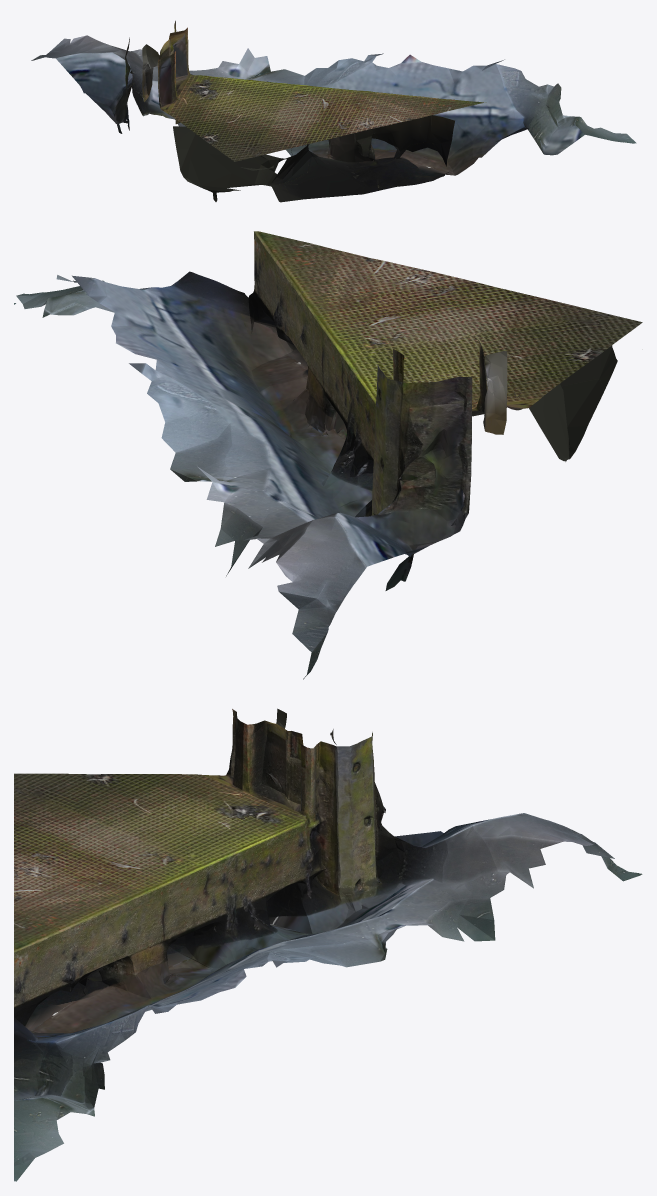
3 renders of one model, top to bottom at view 1: azimuth 30°, elevation 25°; view 2: azimuth 150°, elevation 25°; view 3: azimuth 270°, elevation 25°, orthographic. The views are drawn at different scales.
Bounding box in the file's own units: 3.71 × 1.15 × 3.47.
Materials: 2 (2 with a texture image).
